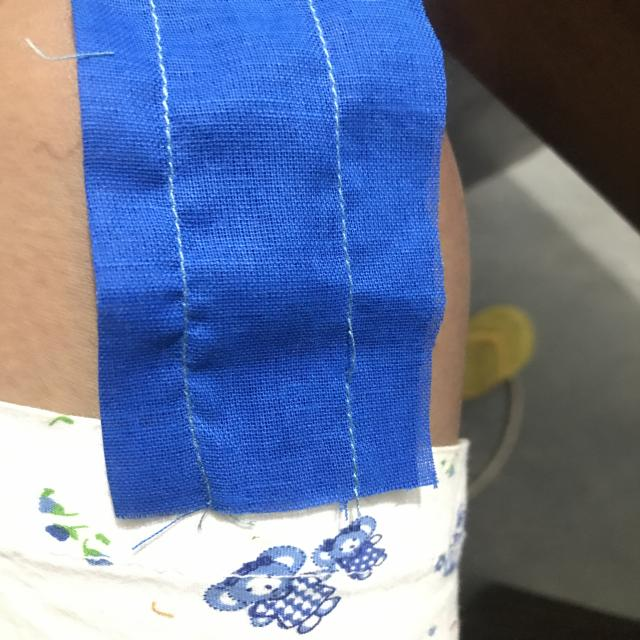good: (321, 154, 375, 271)
skip: (328, 305, 382, 387)
